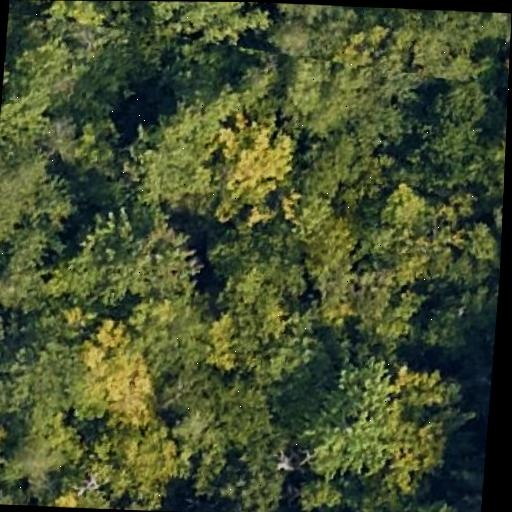tree-top: (292, 345, 463, 499), (293, 188, 448, 338), (48, 196, 210, 315), (173, 375, 298, 512), (320, 5, 494, 90), (195, 275, 311, 382), (0, 306, 84, 439), (119, 104, 225, 206), (60, 320, 162, 426), (398, 75, 492, 190), (0, 166, 66, 308), (0, 10, 83, 120), (85, 410, 184, 502), (208, 118, 295, 215), (203, 212, 309, 291), (0, 102, 129, 164), (298, 128, 388, 213), (137, 1, 271, 49), (475, 109, 507, 254), (0, 389, 15, 489), (490, 27, 511, 97)
